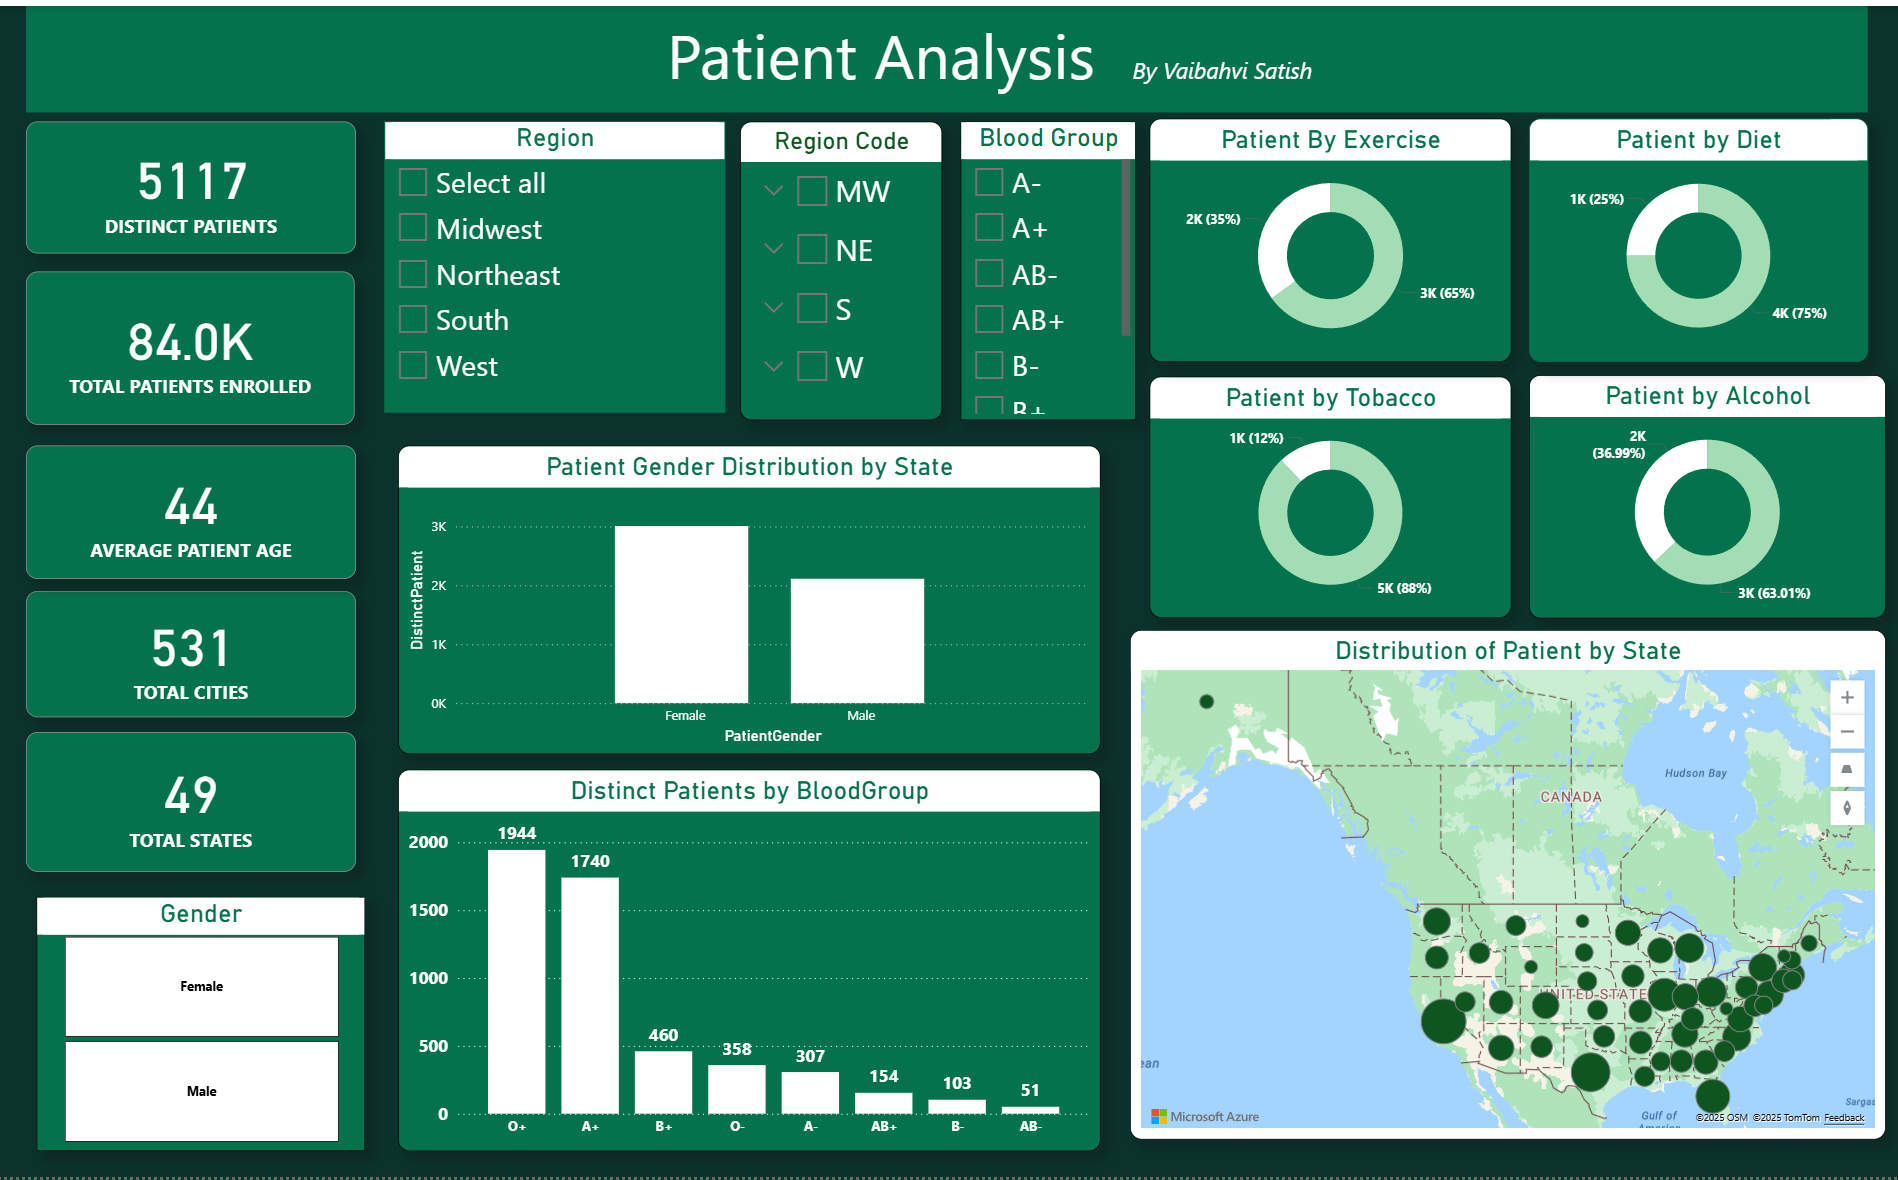

Layout of this report page (visuals, bound fields, positions):
{"tool":"powerbi","page":{"name":"Patient Analysis","canvas":[1800,1100],"ordinal":0},"visuals":[{"type":"card","fields":{"Values":["Count(Patient_Lookup.City)"]},"box":[39.5,549.5,310,118.4],"z":0},{"type":"card","fields":{"Values":["Measure Table.DistinctPatient"]},"box":[39.5,108.5,310,124],"z":3000},{"type":"card","fields":{"Values":["CountNonNull(FactTable.dimPatientFK)"]},"box":[39.5,249.4,308.6,143.7],"z":4000},{"type":"card","fields":{"Values":["Count(Patient_Lookup.State)"]},"box":[39.5,682,310,131],"z":5000},{"type":"slicer","title":"Gender","fields":{"Values":["Patient_Lookup.PatientGender"]},"box":[50,836.7,308.3,238.3],"z":6000},{"type":"slicer","title":"Blood Group","fields":{"Values":["Patient_Lookup.BloodGroup"]},"box":[917.3,108.5,164.9,280.4],"z":7000},{"type":"donutChart","title":"Patient by Tobacco","fields":{"Category":["Patient_Lookup.Tobacco"],"Y":["Measure Table.DistinctPatient"]},"box":[1095,348.3,340,226.7],"z":8000},{"type":"donutChart","title":"Patient By Exercise","fields":{"Category":["Patient_Lookup.Exercise"],"Y":["Measure Table.DistinctPatient"]},"box":[1095,105,340,228.3],"z":9000},{"type":"donutChart","title":"Patient by Alcohol","fields":{"Y":["Measure Table.DistinctPatient"],"Category":["Patient_Lookup.Alcohol"]},"box":[1451.7,346.7,335,228.3],"z":10000},{"type":"donutChart","title":"Patient by Diet","fields":{"Y":["Measure Table.DistinctPatient"],"Category":["Patient_Lookup.Diet"]},"box":[1451.7,105,318.3,228.3],"z":11000},{"type":"clusteredColumnChart","title":"Distinct Patients by BloodGroup","fields":{"Category":["Patient_Lookup.BloodGroup"],"Y":["Measure Table.DistinctPatient"]},"box":[388.3,716.7,660,358.3],"z":12000},{"type":"clusteredColumnChart","title":"Patient Gender Distribution by State","fields":{"Category":["Patient_Lookup.State","Patient_Lookup.PatientGender"],"Y":["Measure Table.DistinctPatient"]},"box":[388.3,413.3,660,290],"z":13000},{"type":"slicer","title":"Region Code","fields":{"Values":["Patient_Lookup.RegionCode","Patient_Lookup.Region"]},"box":[710.2,108.5,190.2,280.4],"z":14000},{"type":"azureMap","title":"Distribution of Patient by State","fields":{"Category":["Patient_Lookup.State"],"Size":["Measure Table.DistinctPatient"]},"box":[1076.7,586.7,710,478.3],"z":15000},{"type":"card","fields":{"Values":["Avg(Patient_Lookup.PatientAge)"]},"box":[39.5,412.9,310,125.4],"z":16000},{"type":"slicer","title":"Region","fields":{"Values":["Patient_Lookup.Region"]},"box":[376.2,108.5,319.9,273.4],"z":17000},{"type":"textbox","box":[40,0,1730,100],"z":18000}]}

Visuals, with their boxes in screenshot pixels (x1, y1, x2, y2), scaled from the page's 1800x1100 canvas onto the 1898x1180 screenshot:
card - Count(Patient_Lookup.City): BBox(42, 589, 369, 716)
card - Measure Table.DistinctPatient: BBox(42, 116, 369, 249)
card - CountNonNull(FactTable.dimPatientFK): BBox(42, 268, 367, 422)
card - Count(Patient_Lookup.State): BBox(42, 732, 369, 872)
"Gender" slicer: BBox(53, 898, 378, 1153)
"Blood Group" slicer: BBox(967, 116, 1141, 417)
"Patient by Tobacco" donutChart: BBox(1155, 374, 1513, 617)
"Patient By Exercise" donutChart: BBox(1155, 113, 1513, 358)
"Patient by Alcohol" donutChart: BBox(1531, 372, 1884, 617)
"Patient by Diet" donutChart: BBox(1531, 113, 1866, 358)
"Distinct Patients by BloodGroup" clusteredColumnChart: BBox(409, 769, 1105, 1153)
"Patient Gender Distribution by State" clusteredColumnChart: BBox(409, 443, 1105, 754)
"Region Code" slicer: BBox(749, 116, 949, 417)
"Distribution of Patient by State" azureMap: BBox(1135, 629, 1884, 1142)
card - Avg(Patient_Lookup.PatientAge): BBox(42, 443, 369, 577)
"Region" slicer: BBox(397, 116, 734, 410)
textbox: BBox(42, 0, 1866, 107)
